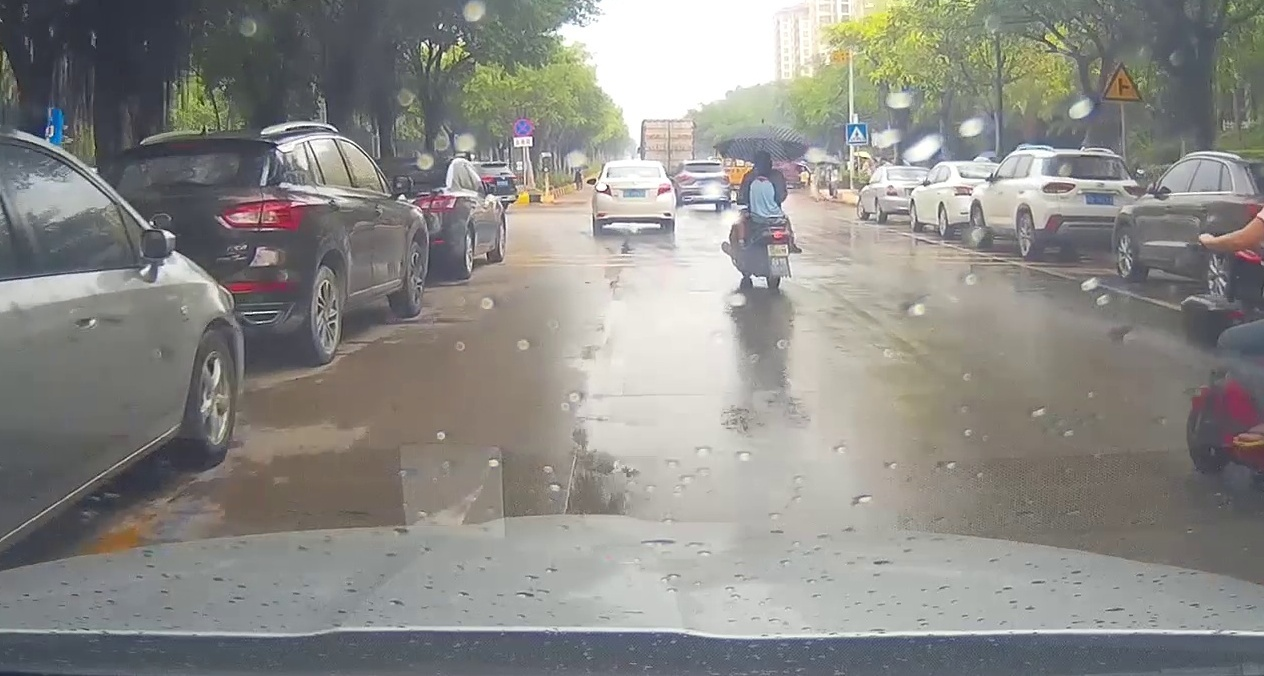L_light: (1042, 181, 1076, 194), (594, 182, 613, 197)
R_light: (1122, 184, 1143, 197), (657, 182, 671, 196)
T_light: (1081, 154, 1101, 158), (628, 166, 641, 169)
day-left: (593, 159, 676, 234)
day-no: (1038, 151, 1145, 259)
